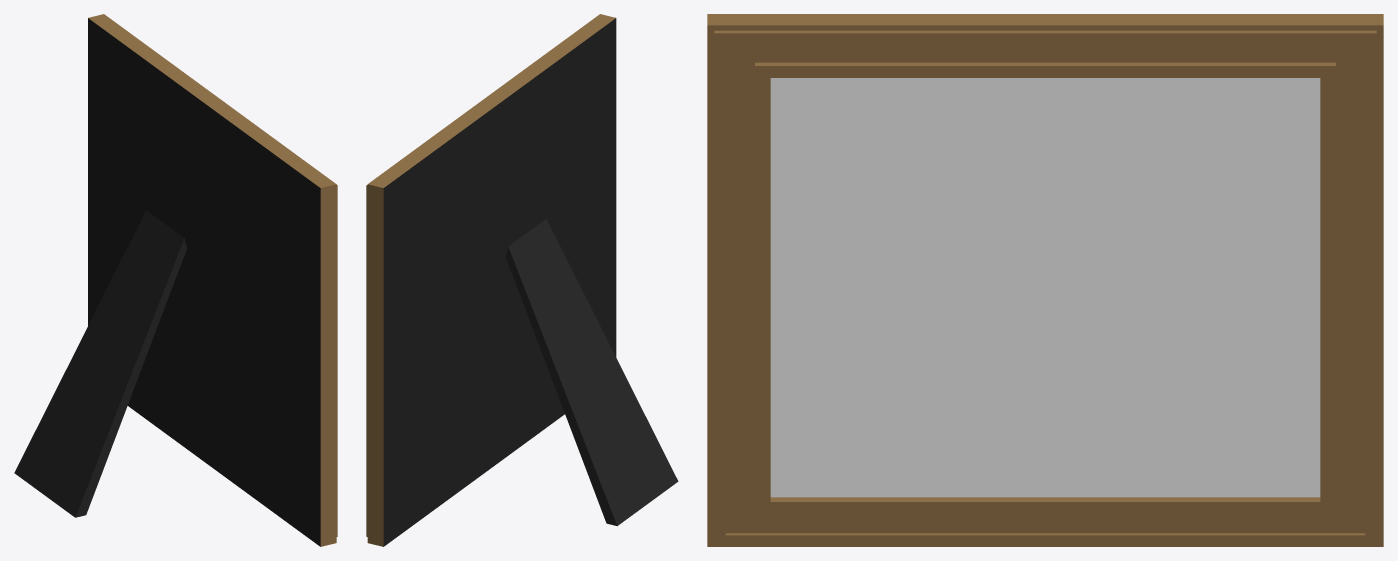
File: DASphoto.glb
3 views of the same model, side by side, from view 1: azimuth 30°, elevation 25°; view 2: azimuth 150°, elevation 25°; view 3: azimuth 270°, elevation 25° (orthographic). The views are drawn at different scales.
Parts seen in each view (by area): view 1: Cube.001, Cube; view 2: Cube.001, Cube; view 3: Waiting, Cube.001.
Part boxes in pixels (x1,y1,x2,y2): Cube.001: [88, 14, 337, 546]; Cube: [14, 210, 186, 517]; Cube.001: [366, 14, 616, 546]; Cube: [505, 219, 678, 526]; Waiting: [770, 78, 1320, 497]; Cube.001: [707, 14, 1383, 546].
Size of the model in its own units: 0.6904 by 1.35 by 1.59.
